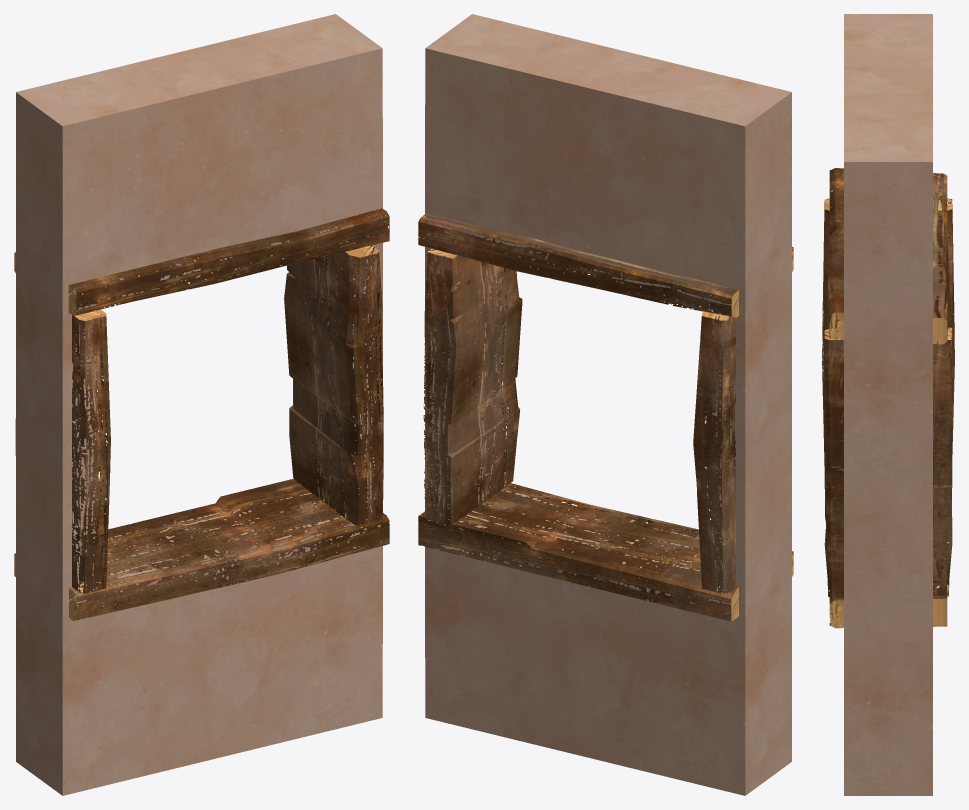
3 renders of one model, left to right at view 1: azimuth 30°, elevation 25°; view 2: azimuth 150°, elevation 25°; view 3: azimuth 270°, elevation 25°, orthographic. The views are drawn at different scales.
Parts seen in each view (by area): view 1: SM_BB_T4_Wall_Windowframe_Narrow_02_LOD0; view 2: SM_BB_T4_Wall_Windowframe_Narrow_02_LOD0; view 3: SM_BB_T4_Wall_Windowframe_Narrow_02_LOD0.
Boxes of the visible parts, bbox=[...] form: SM_BB_T4_Wall_Windowframe_Narrow_02_LOD0: bbox=[14, 14, 389, 795]; SM_BB_T4_Wall_Windowframe_Narrow_02_LOD0: bbox=[418, 14, 793, 795]; SM_BB_T4_Wall_Windowframe_Narrow_02_LOD0: bbox=[822, 14, 954, 795].
Size of the model in its own units: 1.5 by 3 by 0.5701.
2 materials, 2 textured.
